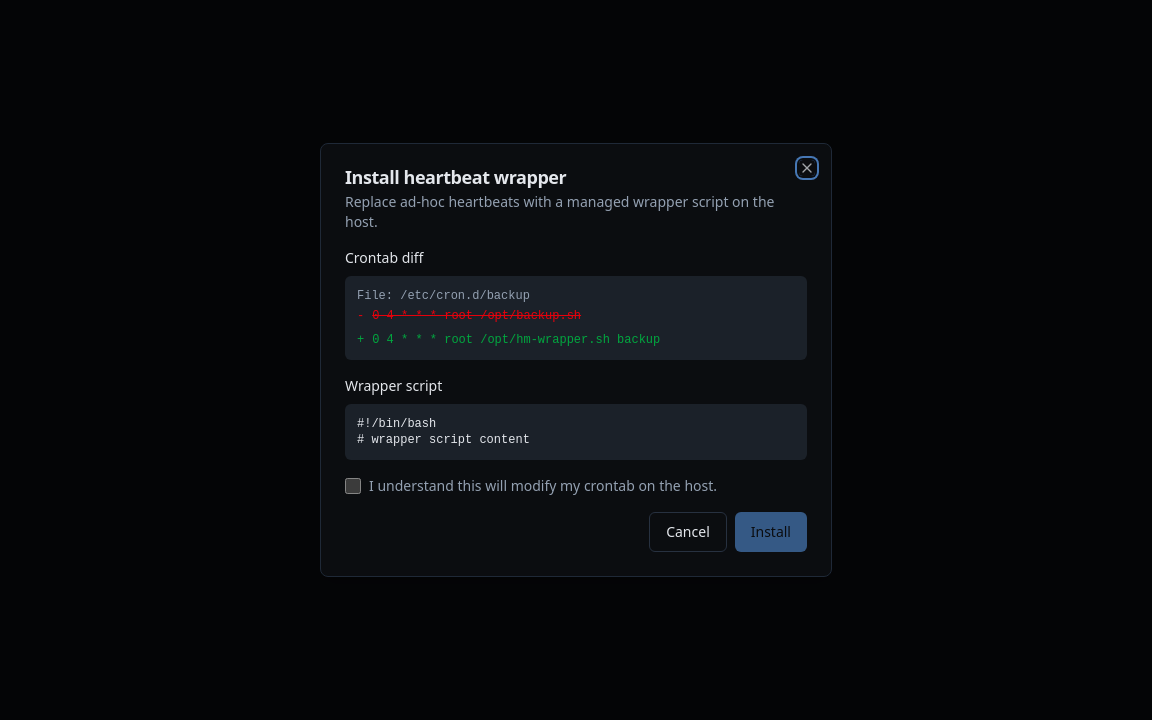
Test: InstallHeartbeatModal › Install button becomes enabled after checking the confirmation checkbox
Step 1. Click the checkbox → (353, 486), box 345,478 -> 361,494
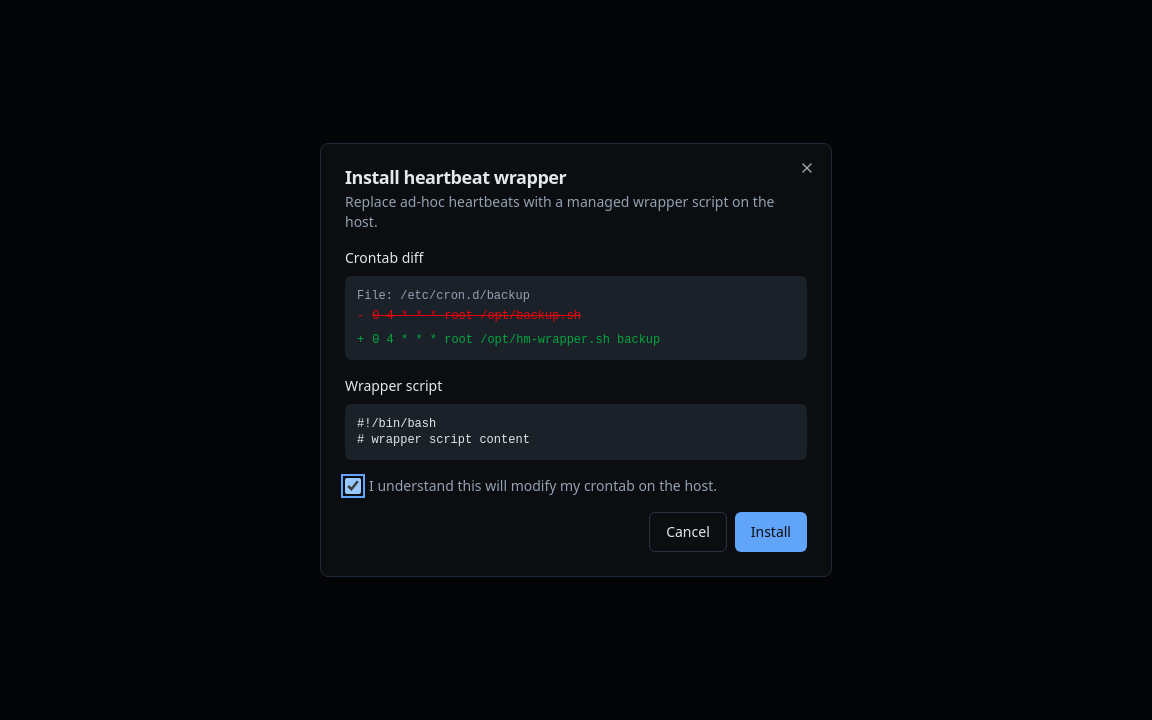
Result: the button "Install" is enabled at 735,512 -> 807,552
